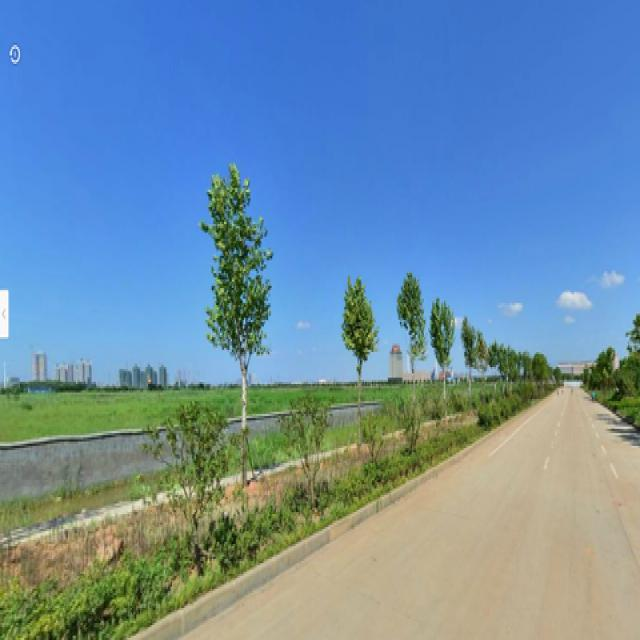meta: (211, 179, 276, 502), (336, 273, 375, 457), (401, 273, 424, 399), (435, 299, 457, 399)
